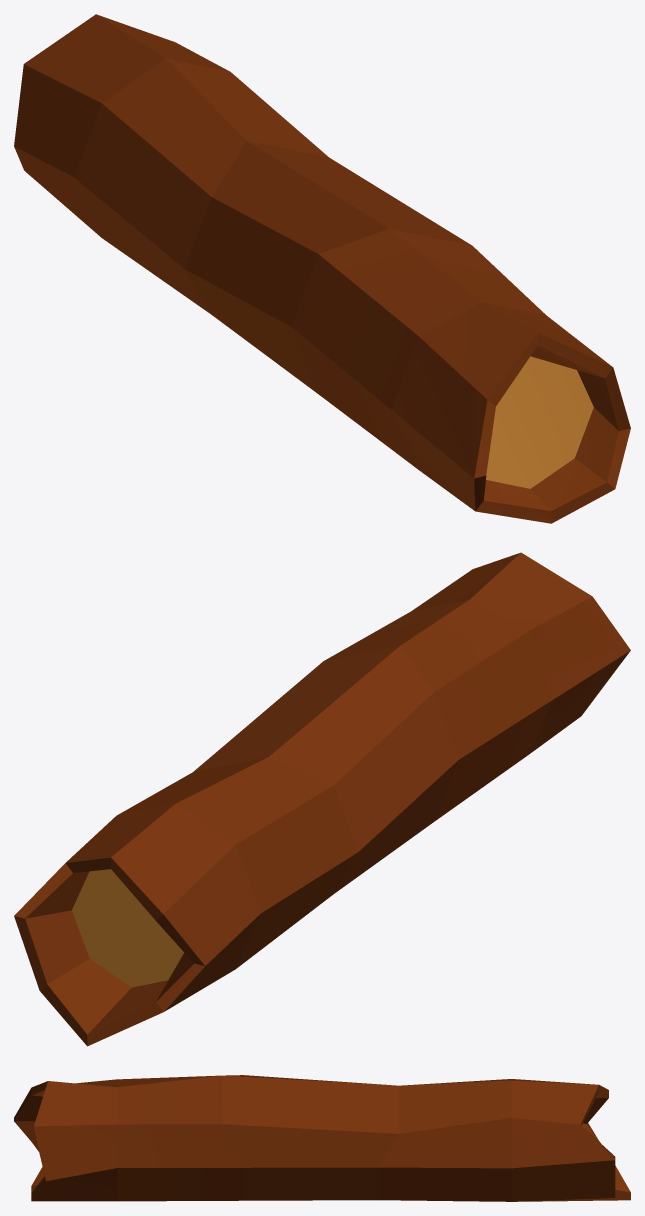
Rendered from LogV1.fbx.
The picture shows the model from 3 angles, top to bottom: view 1: azimuth 30°, elevation 25°; view 2: azimuth 150°, elevation 25°; view 3: azimuth 270°, elevation 25°; orthographic projection. The views are drawn at different scales.
Parts seen in each view (by area): view 1: Log; view 2: Log; view 3: Log.
Boxes of the visible parts, left/top/right/bottom form: Log: left=14, top=14, right=630, bottom=523; Log: left=14, top=552, right=630, bottom=1046; Log: left=14, top=1075, right=630, bottom=1201.
Size of the model in its own units: 2.22 by 10.35 by 2.25.
